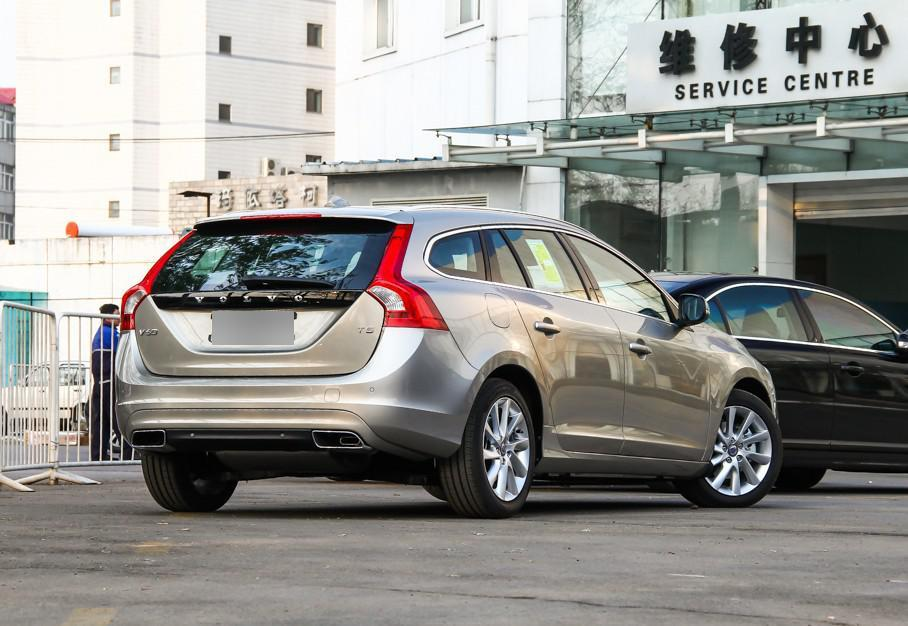Wagon: (114, 194, 783, 521)
